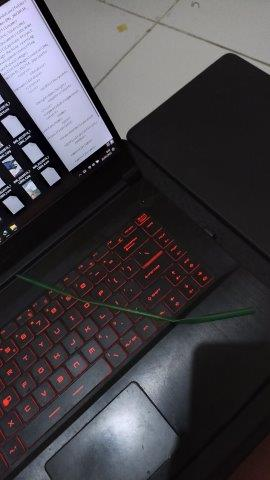sedotan: (17, 275, 255, 323)
